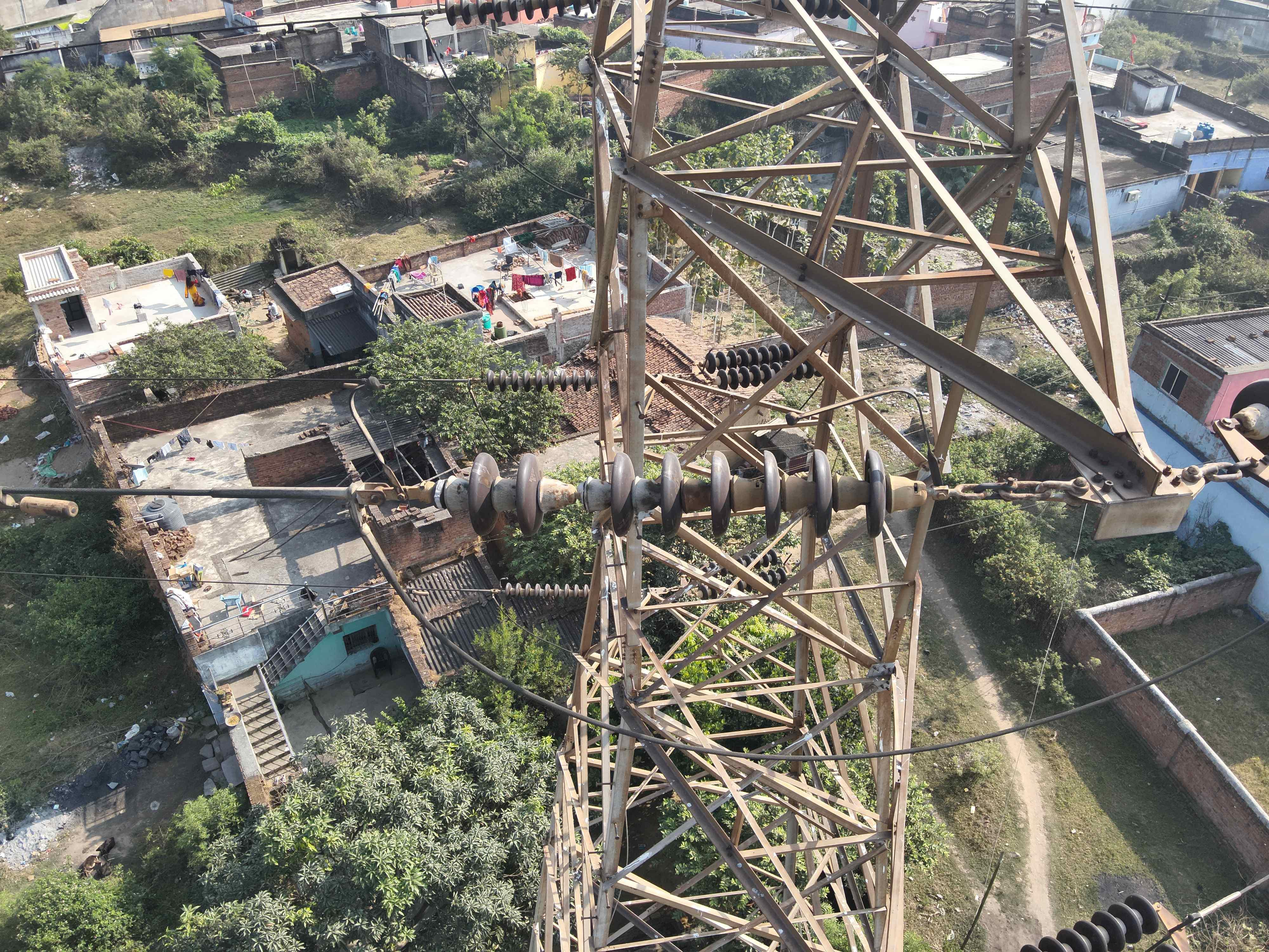broken_insulator: (552, 454, 595, 532), (426, 451, 457, 538)
